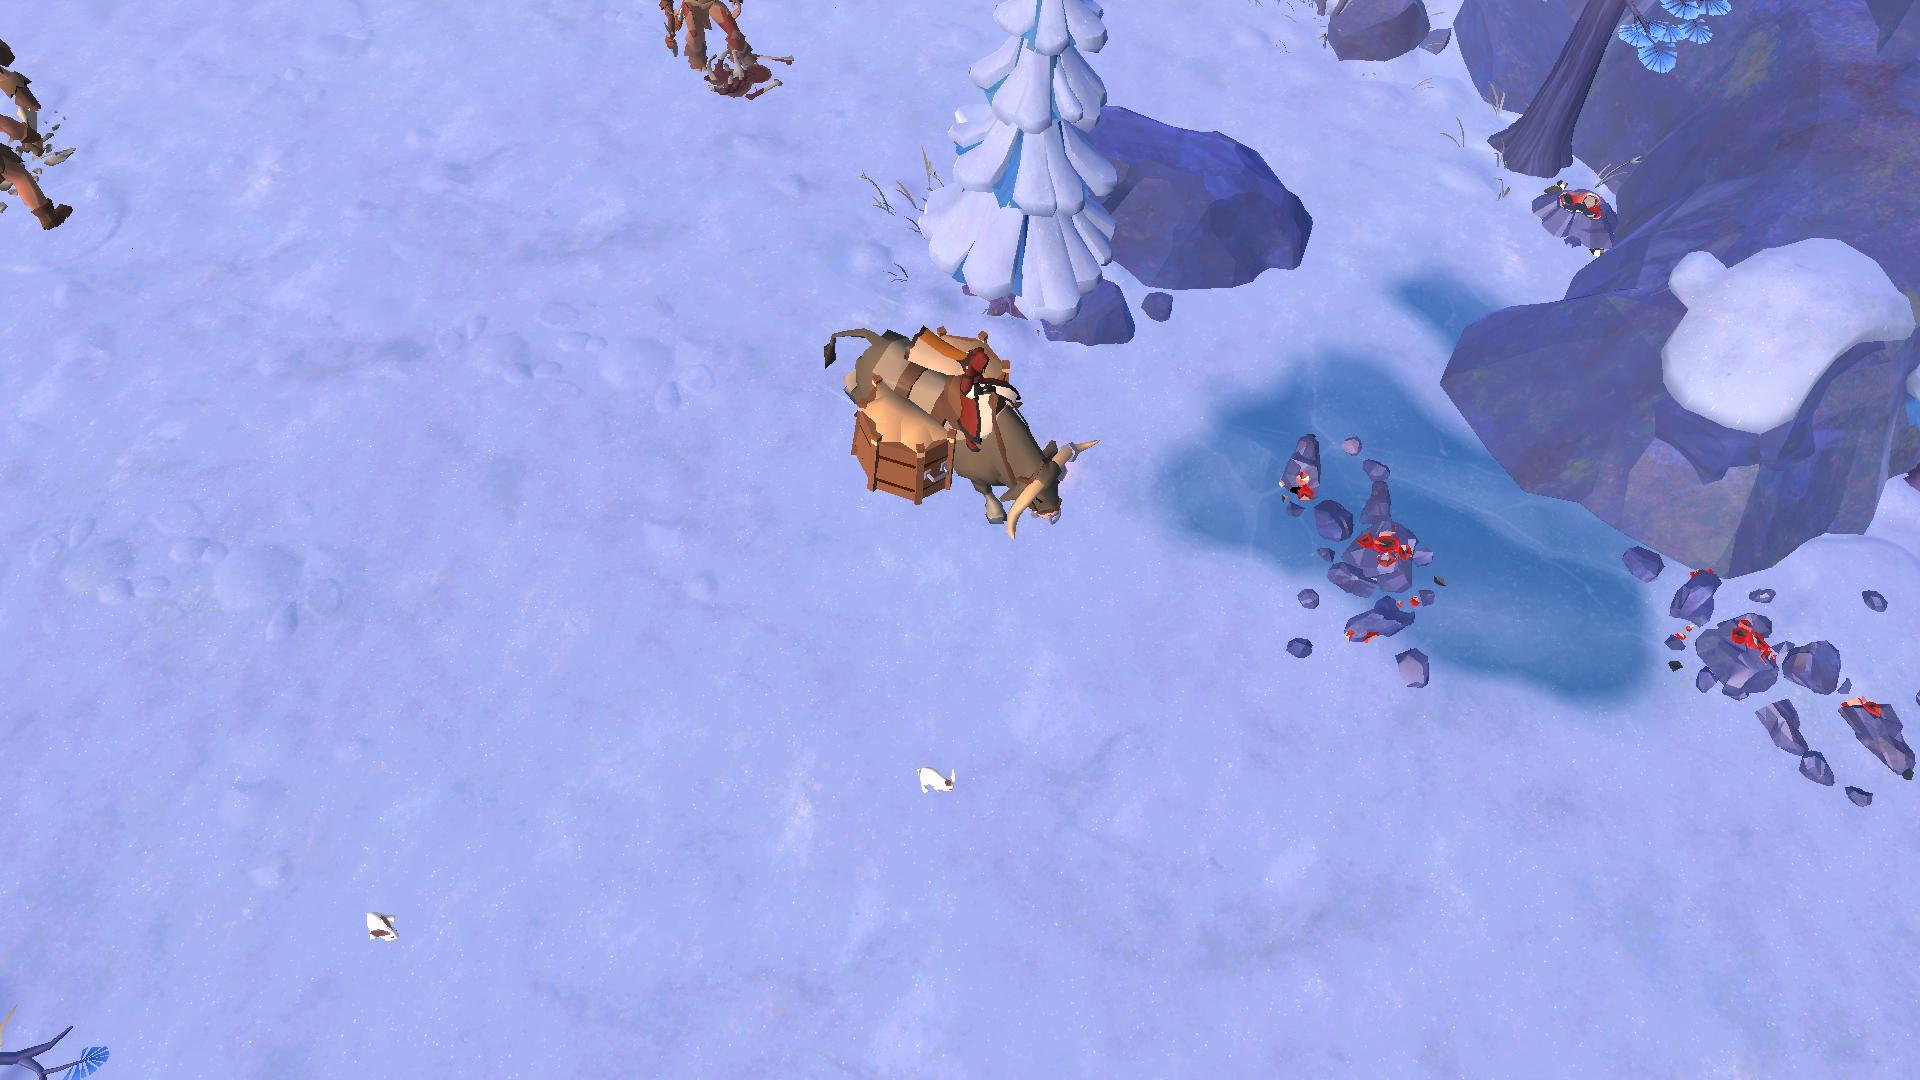enemy_factionKeeper: (0, 37, 69, 227), (654, 0, 777, 73)
